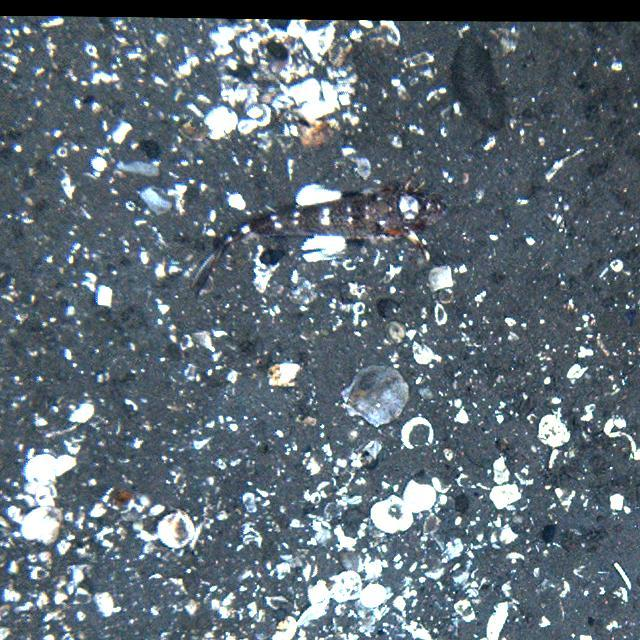roundfish: (192, 187, 458, 284)
